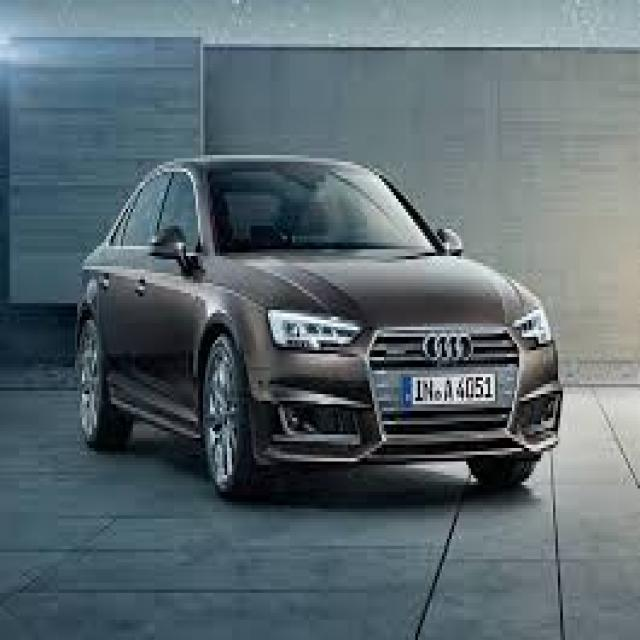Car: (65, 143, 563, 523)
